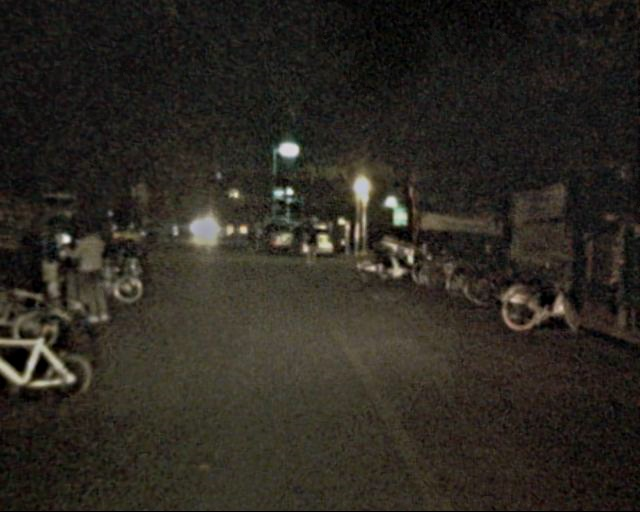person: (71, 216, 118, 323), (300, 223, 321, 272), (244, 222, 258, 257)
